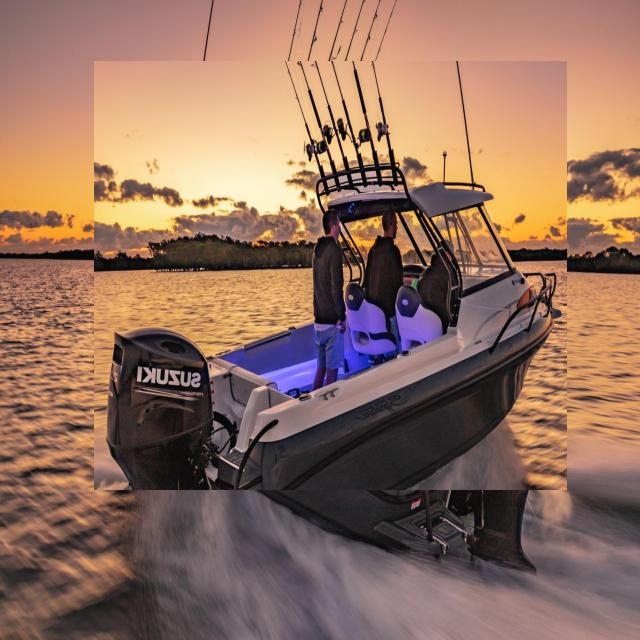Fishing Boat: (94, 61, 567, 490)
